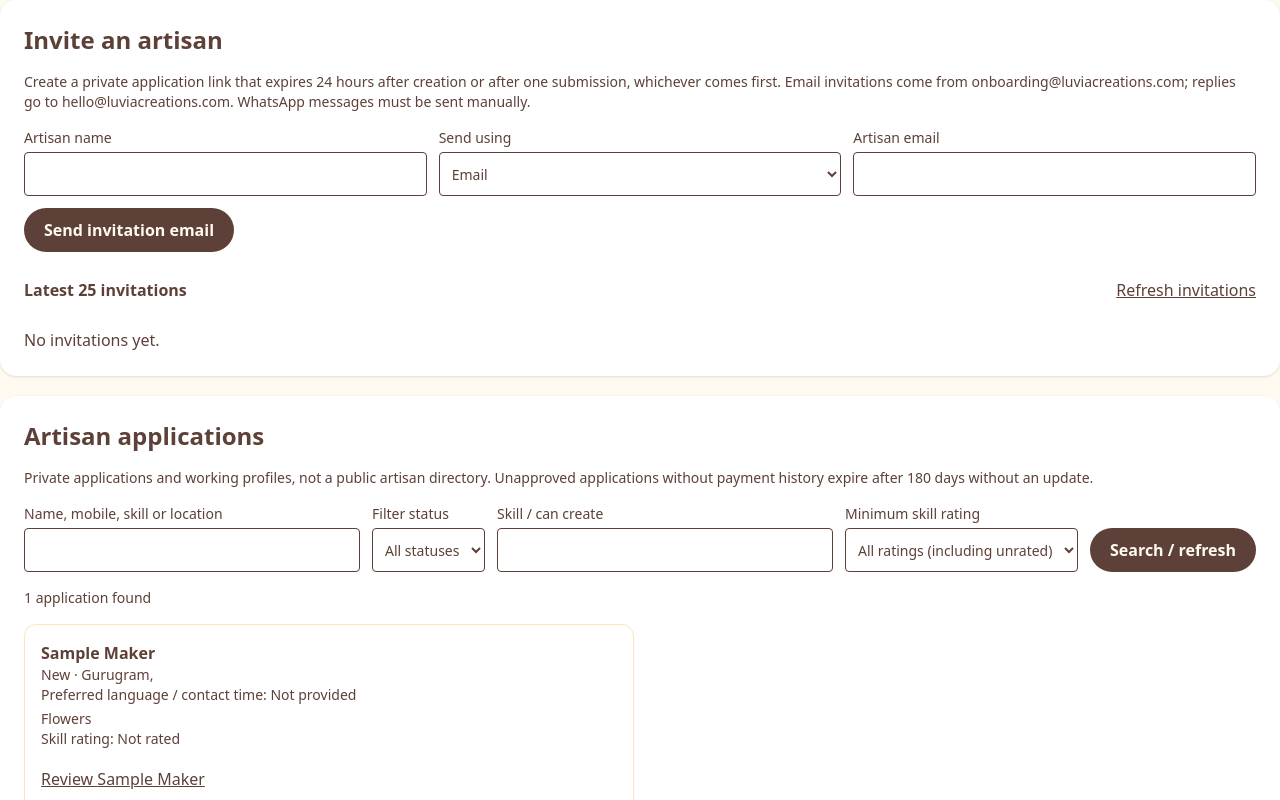
Test case: preserves review inputs and surfaces a concurrency conflict
The image size is (1280, 800).
Click the button "Review Sample Maker".
click(123, 779)  # box [41, 757, 205, 799]
(page scrolled)
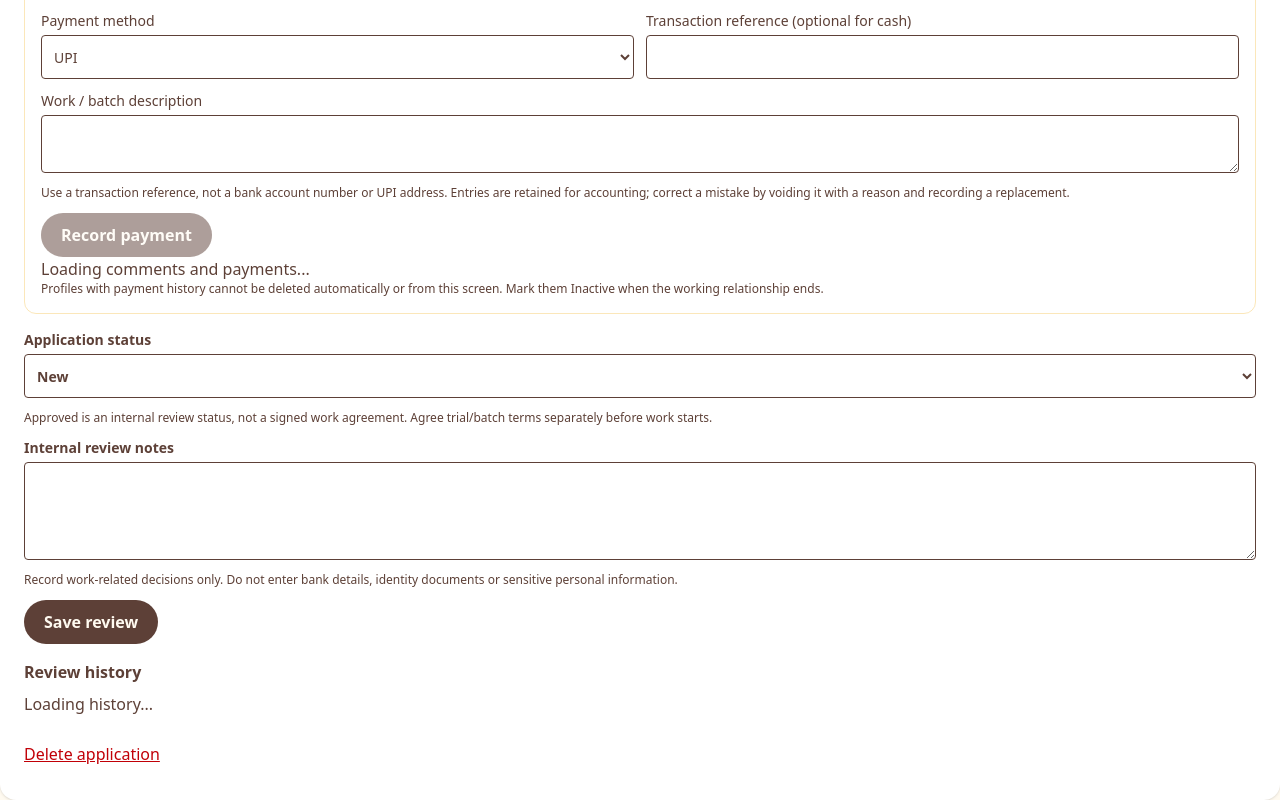
Type "Keep my notes" into the text box labelled "Internal review notes".
click(640, 511); type("Keep my notes")  # box [24, 462, 1256, 560]
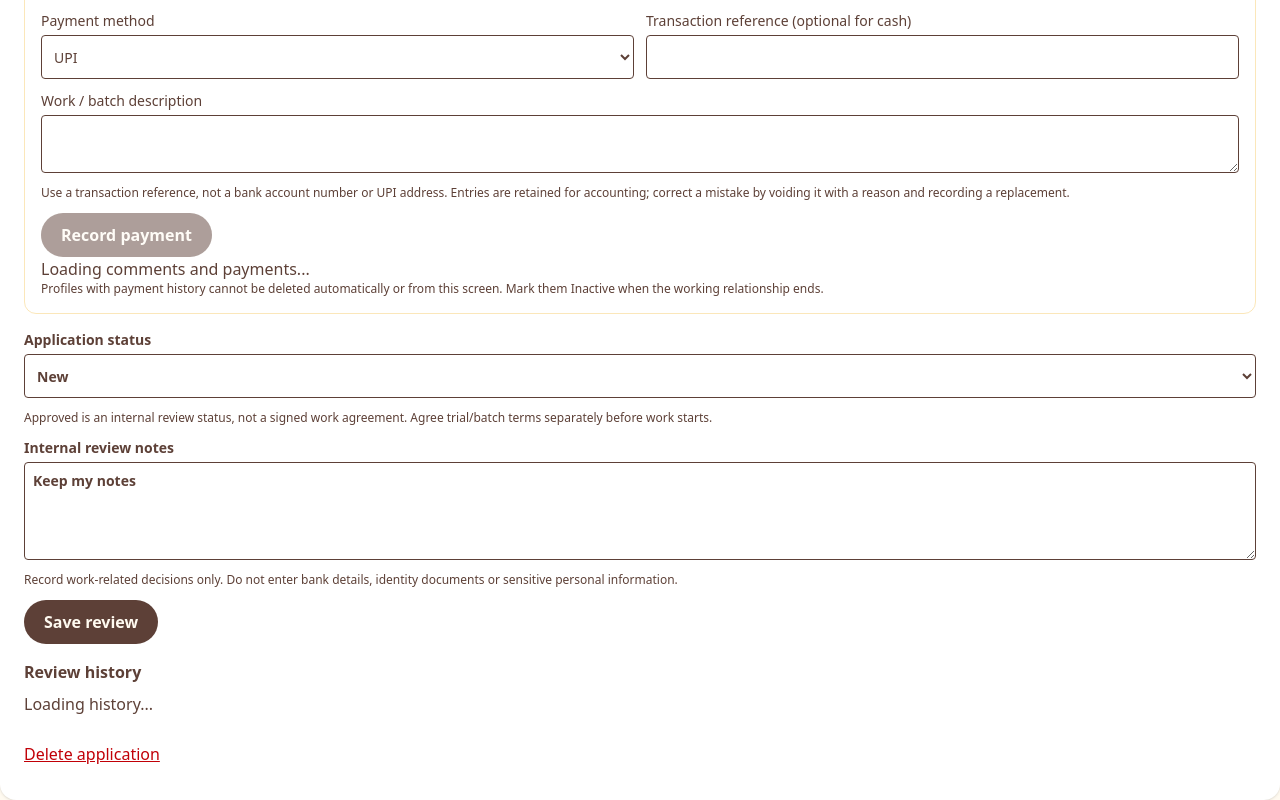
Submit the form named "Review artisan", box [24, 330, 1256, 644]
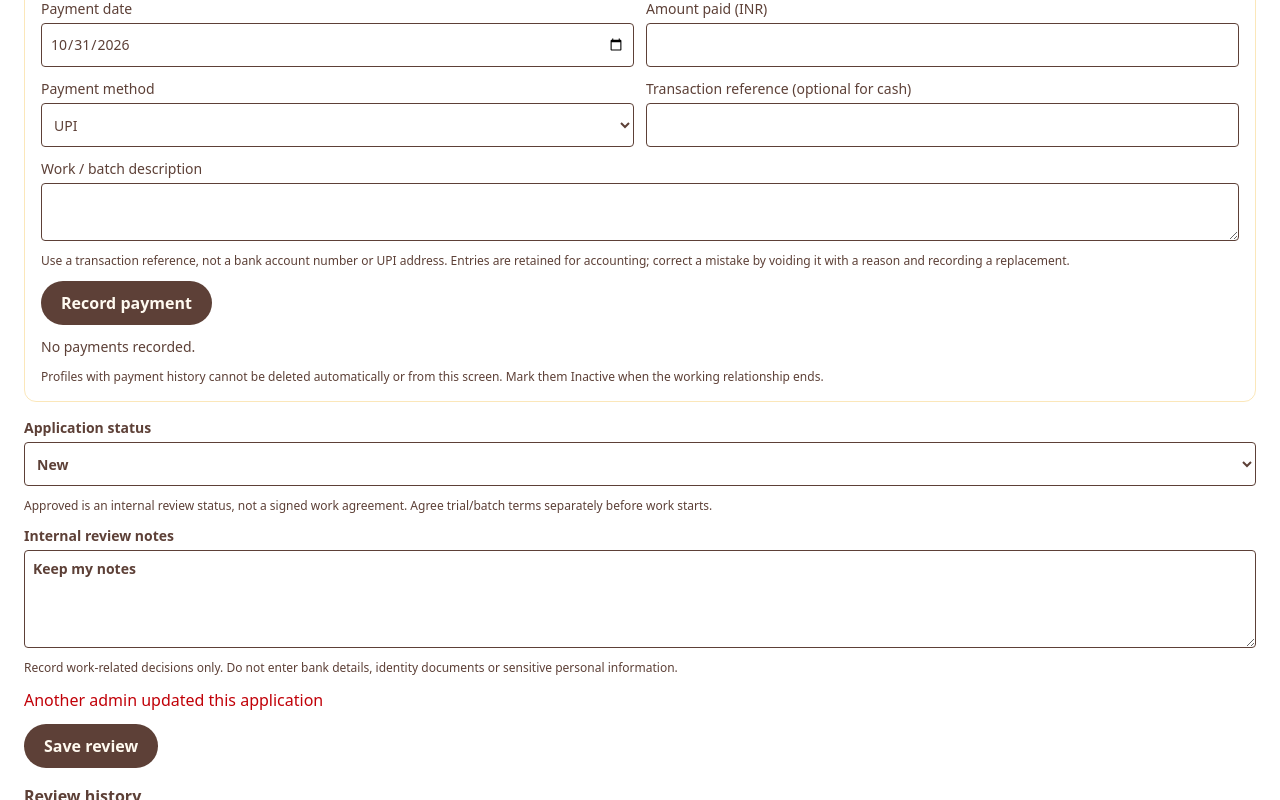
Expected: the message shows "Another admin", [24, 689, 323, 711]
